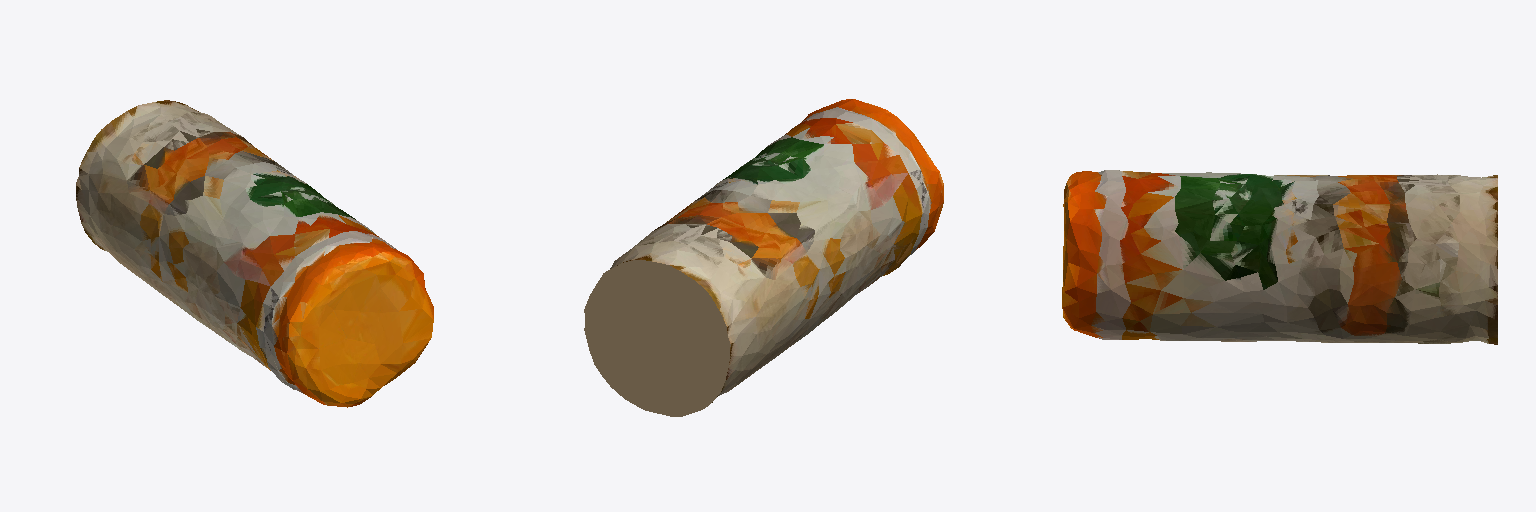
The picture shows the model from 3 angles: view 1: azimuth 30°, elevation 25°; view 2: azimuth 150°, elevation 25°; view 3: azimuth 270°, elevation 25°; orthographic projection.
Bounding box in the file's own units: 0.0742 × 0.073 × 0.1818.
Materials: 1 (1 with a texture image).